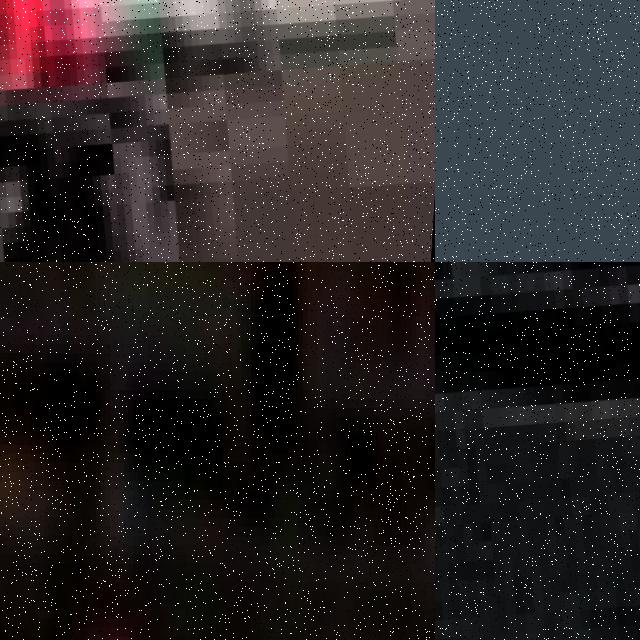drone: (0, 0, 435, 262), (435, 262, 640, 640)
